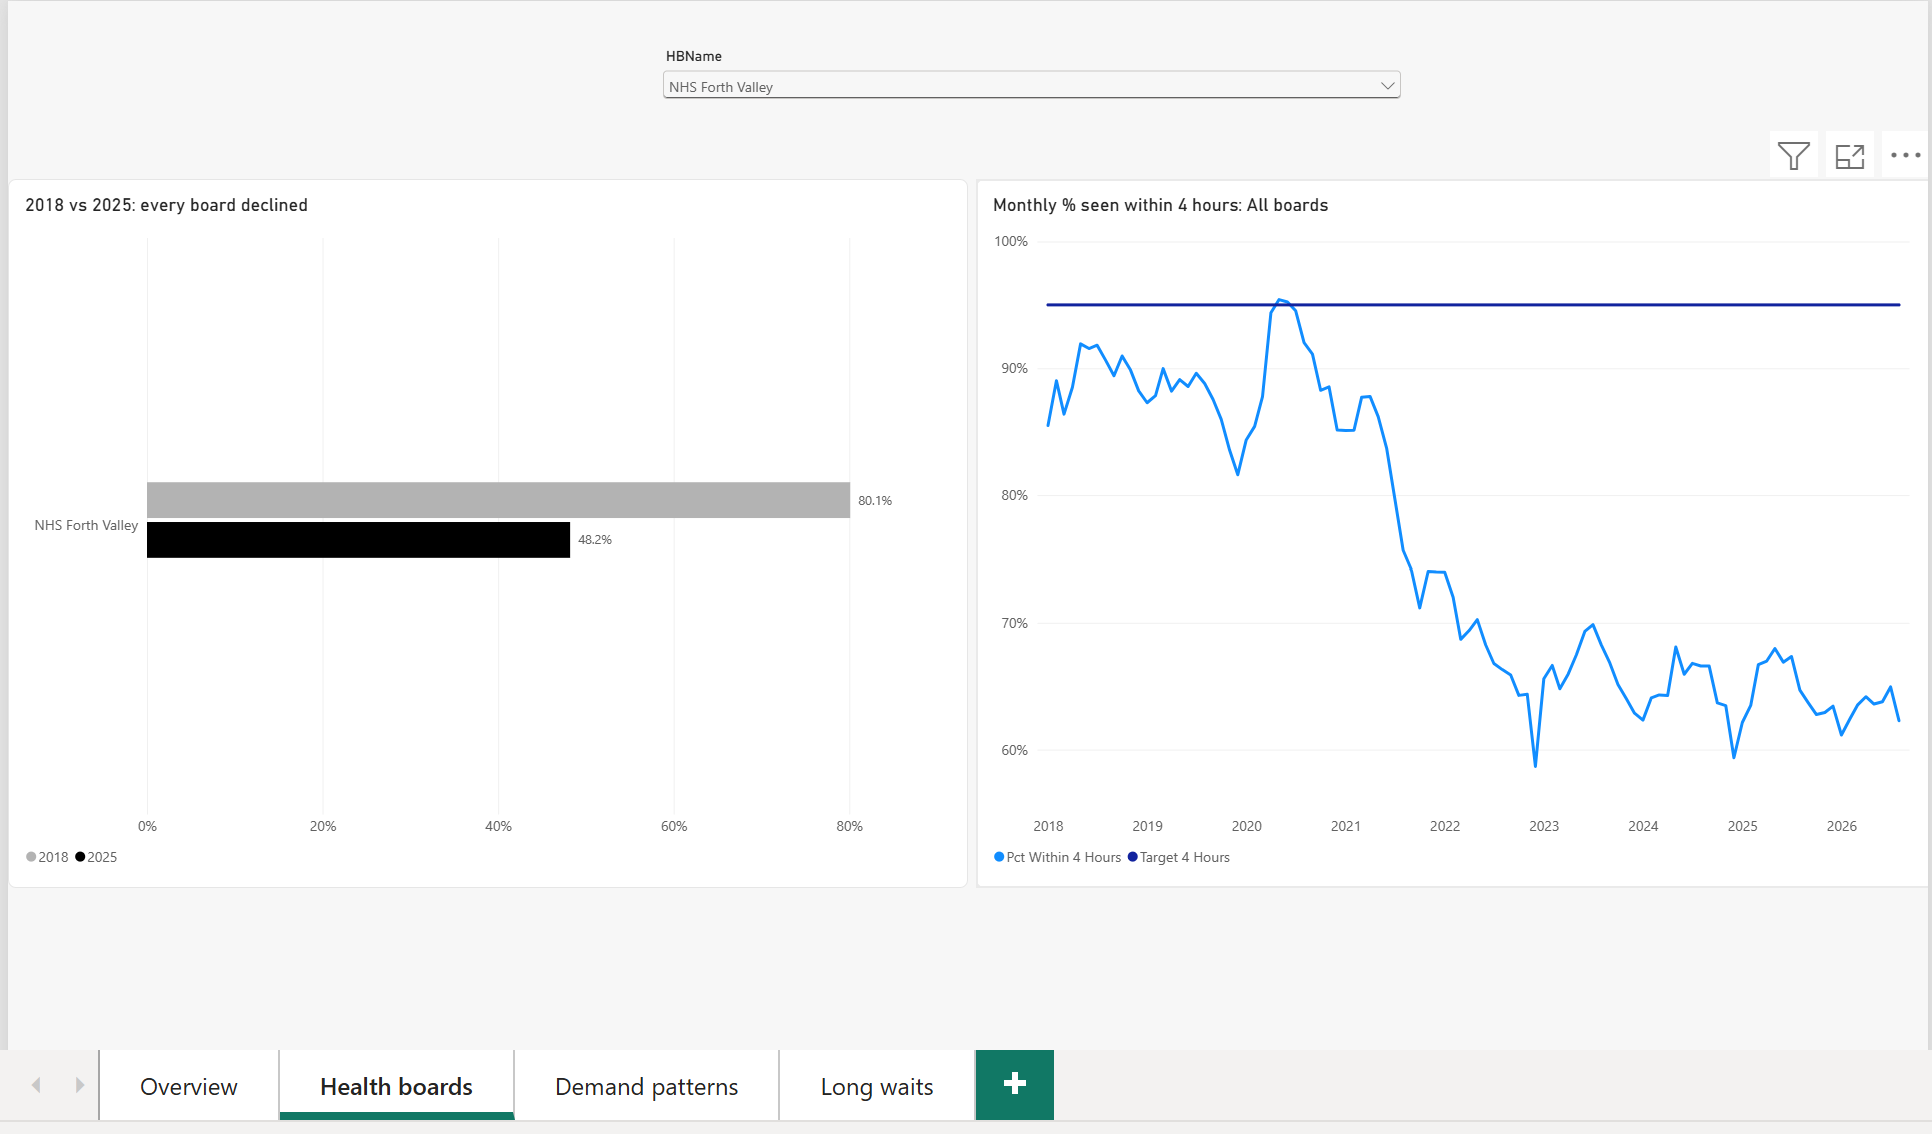

The dashboard page shown, as its layout file describes it:
{"tool":"powerbi","page":{"name":"Health boards","canvas":[1920,1080],"ordinal":1},"visuals":[{"type":"clusteredBarChart","title":"2018 vs 2025: every board declined","fields":{"Category":["Activity.HBName"],"Series":["Activity.Month.Variation.Date Hierarchy.Year"],"Y":["Activity.Pct Within 4 Hours"]},"box":[0,178,960,708],"z":0},{"type":"slicer","fields":{"Values":["Activity.HBName"]},"box":[650,46,748,132],"z":1000},{"type":"lineChart","fields":{"Category":["Activity.Month"],"Y":["Activity.Pct Within 4 Hours","Activity.Target 4 Hours"]},"box":[968,178,956,708],"z":2000}]}

Visuals, with their boxes on the page's 1920x1080 design canvas (x1, y1, x2, y2). These are canvas units, not pixel positions in the 1932x1134 screenshot, which may show the page scaled, cropped or inside an application window:
"2018 vs 2025: every board declined" clusteredBarChart: {"x1": 0, "y1": 178, "x2": 960, "y2": 886}
slicer - Activity.HBName: {"x1": 650, "y1": 46, "x2": 1398, "y2": 178}
lineChart - Activity.Month x Activity.Pct Within 4 Hours: {"x1": 968, "y1": 178, "x2": 1924, "y2": 886}
